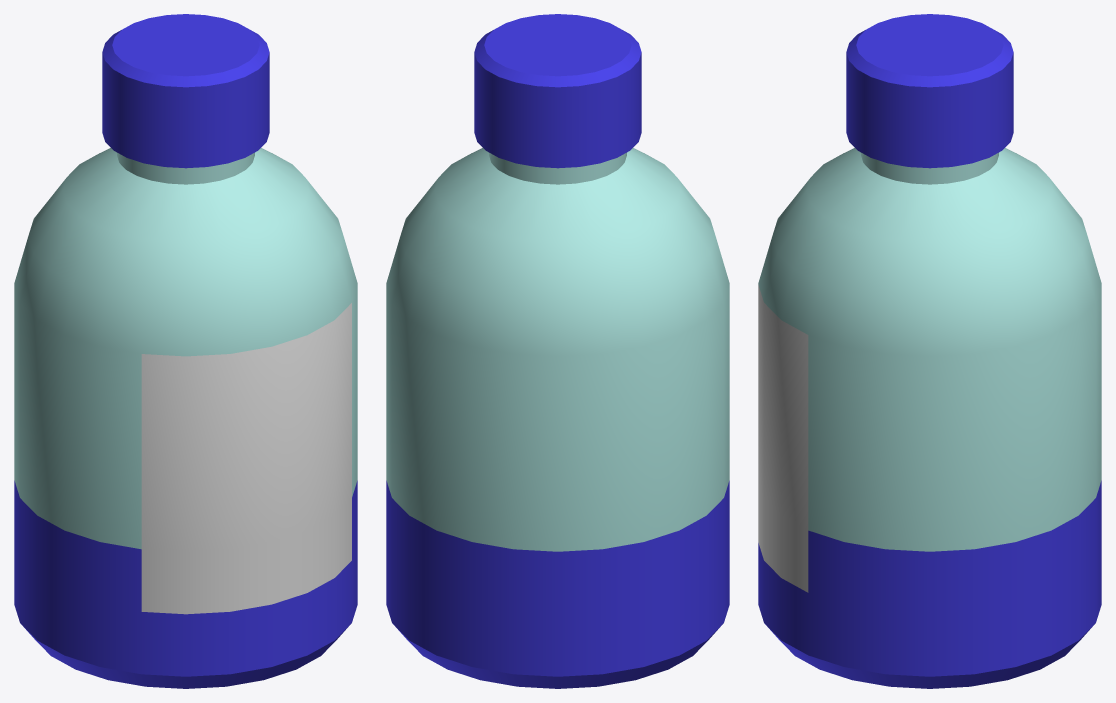
The model's file is jarCylindrical.fbx.
3 views of the same model, side by side, from view 1: azimuth 30°, elevation 25°; view 2: azimuth 150°, elevation 25°; view 3: azimuth 270°, elevation 25° (orthographic).
Visible parts, largest first — view 1: Jar Cylindrical; view 2: Jar Cylindrical; view 3: Jar Cylindrical.
Part boxes in pixels (x1,y1,x2,y2): Jar Cylindrical: [14, 14, 357, 688]; Jar Cylindrical: [386, 14, 729, 688]; Jar Cylindrical: [758, 14, 1101, 688].
Size of the model in its own units: 9.21 by 9.21 by 17.09.
